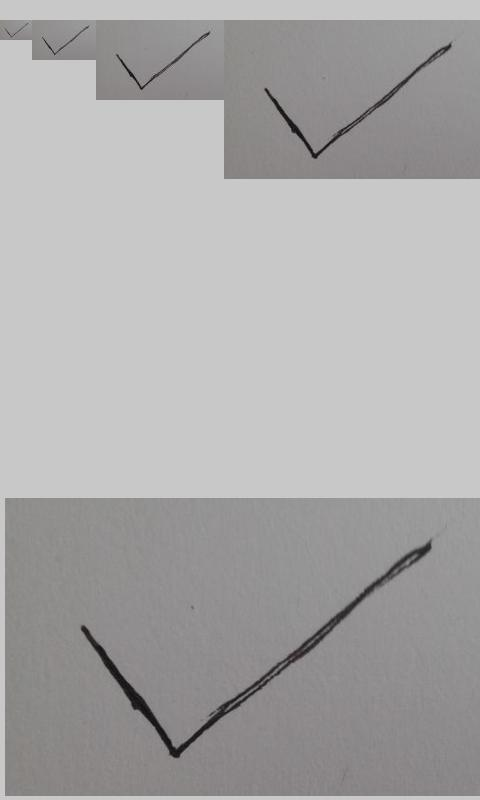check_box: (78, 541, 434, 759), (263, 43, 453, 159), (116, 32, 209, 90), (41, 26, 89, 55), (5, 23, 27, 38)
